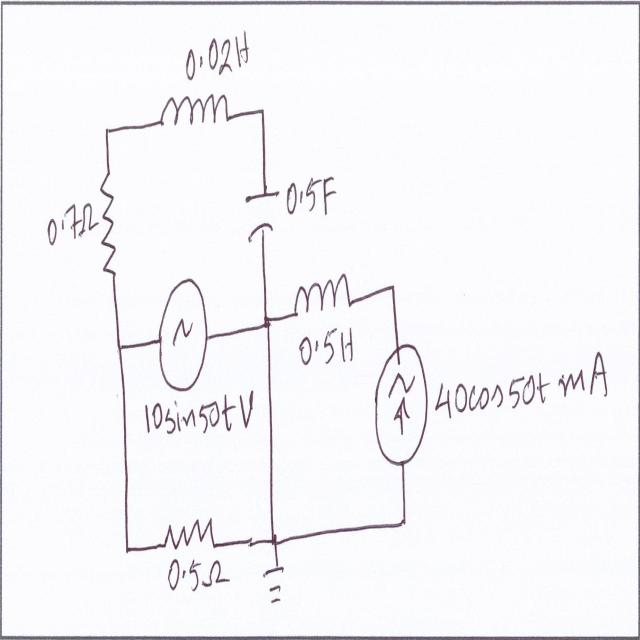ac_current: (158, 268, 211, 392)
capacitor: (243, 185, 282, 248)
current_source: (374, 338, 428, 473)
ground: (264, 560, 290, 617)
inductor: (291, 272, 355, 322), (159, 88, 231, 131)
resistor: (162, 511, 217, 556), (98, 167, 119, 279)
